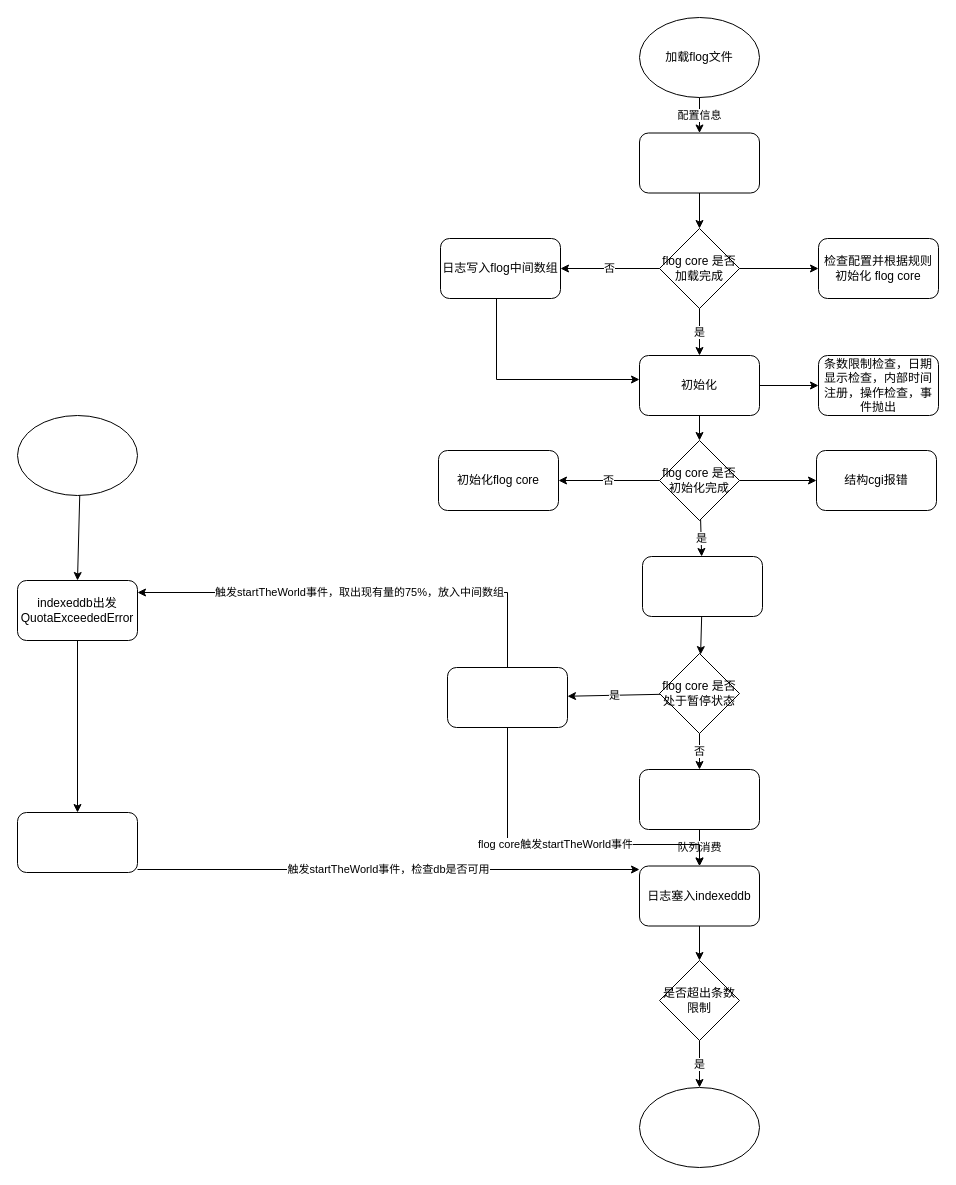
This 956x1185 diagram has some shape labels left out. The centre of each missing label's shape, as x and y in pixels:
初始化页面监听（包括资源加载异常，js错误）: [699,162]
删库: [77,842]
日志写入 flog 中间数组: [507,697]
日志塞入flog core: [702,586]
日志塞入flog队列: [699,799]
模块配置的删除间隔对每次新增操作进行检查删除: [699,1127]
清容: [77,455]
